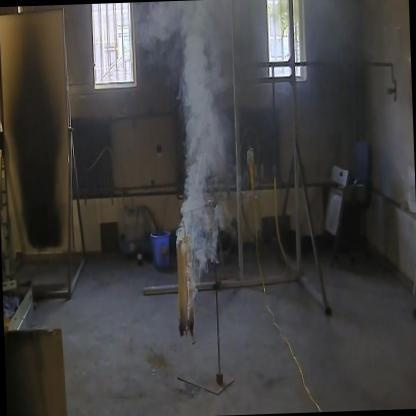smoke: (133, 3, 236, 314)
